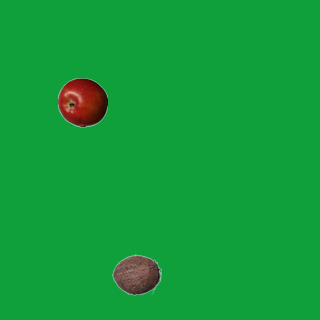Apple Braeburn: (57, 77, 107, 127)
Cocos: (111, 249, 161, 299)
